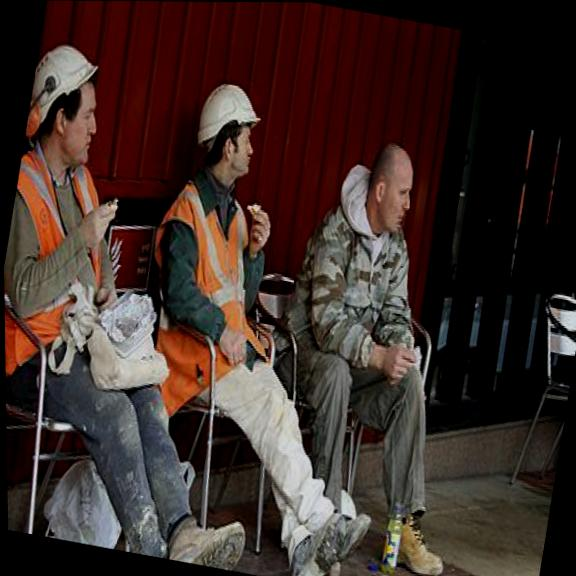no_safety_vest: (282, 202, 425, 416)
safety_vest: (122, 175, 274, 423), (2, 149, 120, 383)
